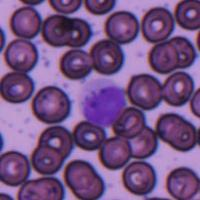L: (80, 78, 127, 128)
